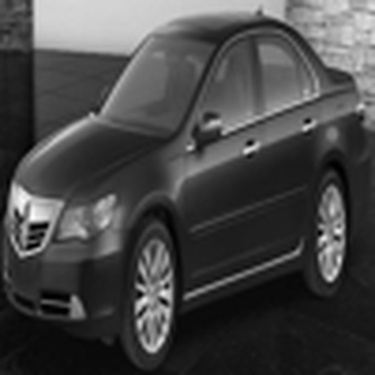car: (1, 10, 354, 353)
